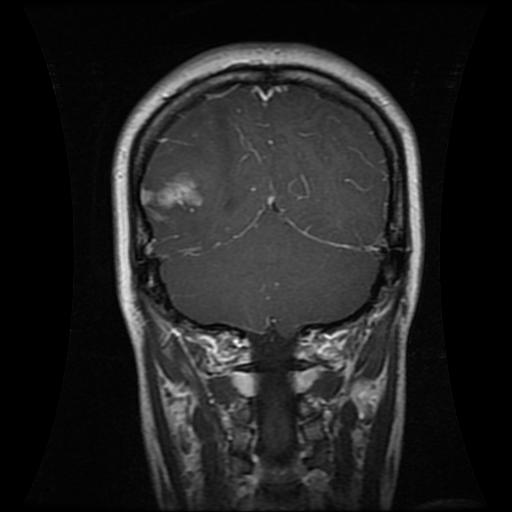Gliomia_tumour: (142, 167, 205, 222)
